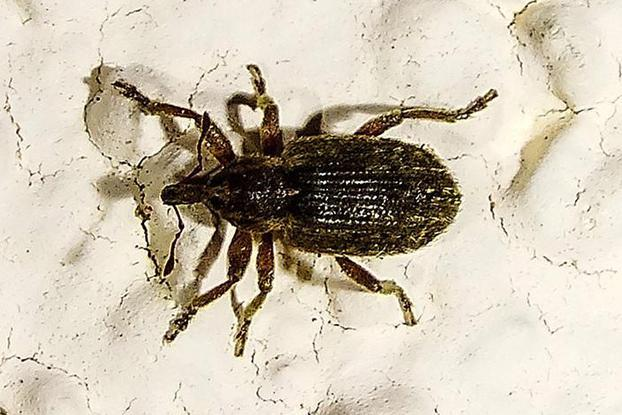weevils: (78, 33, 545, 390)
